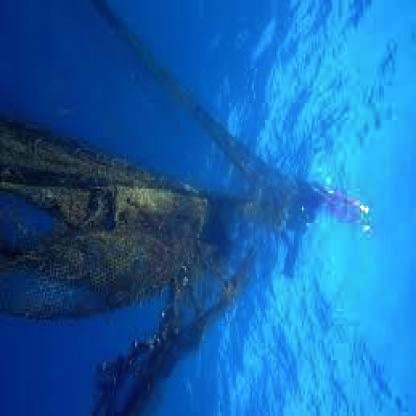net: (2, 120, 212, 326)
